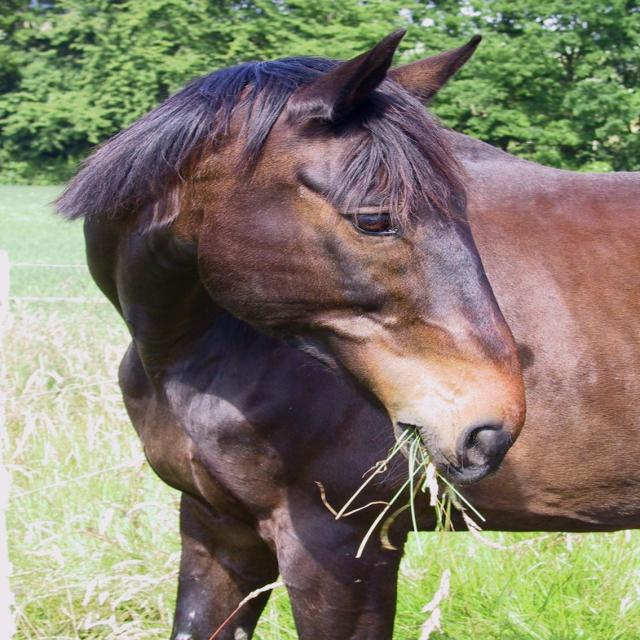Horse: (42, 28, 640, 640)
